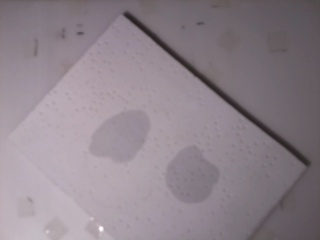Water_detected: (99, 122, 137, 163), (177, 159, 208, 191)
